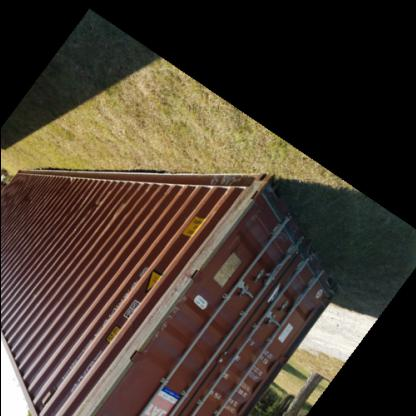Damage: (86, 194, 114, 224), (52, 172, 76, 194), (16, 190, 41, 210)
